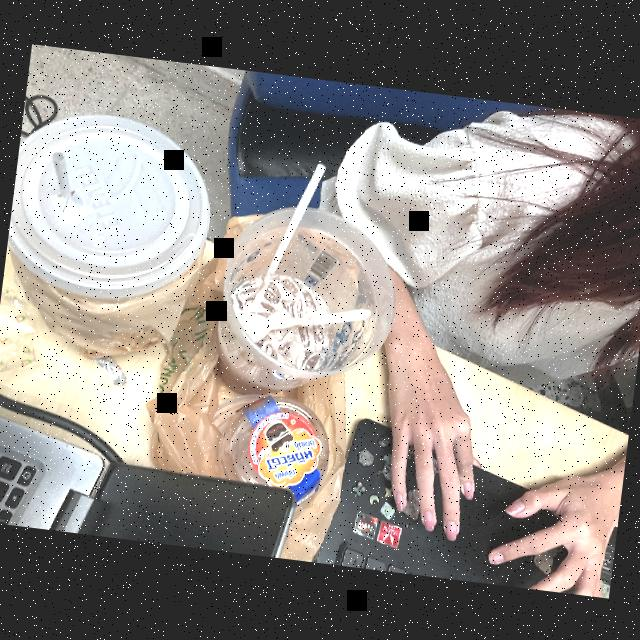plastic_bag: (136, 198, 382, 564), (0, 224, 208, 371)
plastic_cup: (208, 191, 410, 402), (215, 388, 339, 508)
plastic_cup_lid: (2, 100, 230, 306)
plastic_spoon: (228, 289, 375, 359)
scrap_plastic: (0, 283, 57, 381), (89, 336, 140, 394)
straw: (246, 156, 330, 316)
